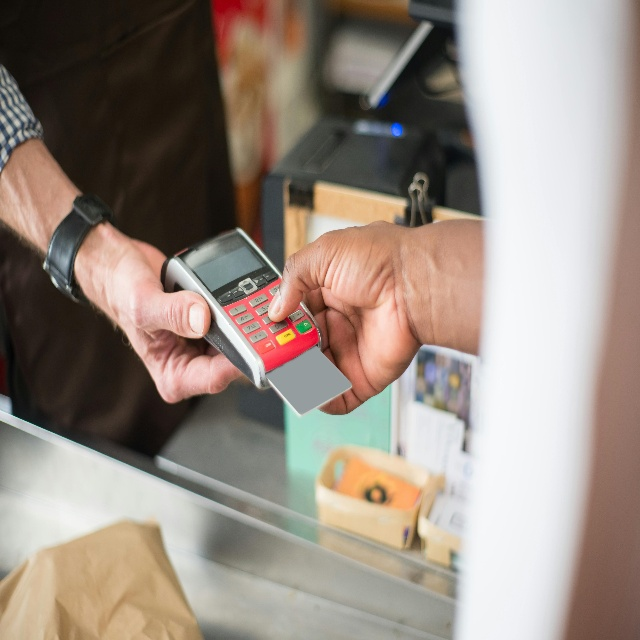Sin_guantes: (267, 220, 421, 416), (106, 238, 244, 404)
